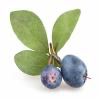Blueberry leaf: (9, 10, 50, 55), (52, 7, 83, 57), (12, 50, 44, 76)
